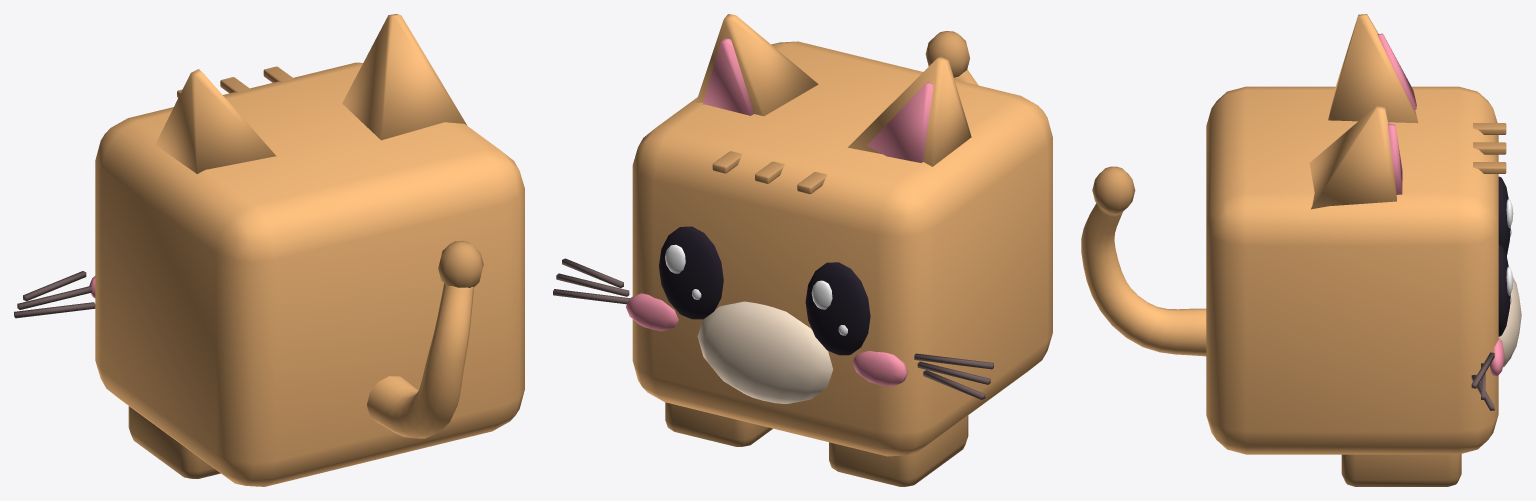
Rendered from pet_cat.fbx.
3 renders of one model, left to right at view 1: azimuth 30°, elevation 25°; view 2: azimuth 150°, elevation 25°; view 3: azimuth 270°, elevation 25°, orthographic. The views are drawn at different scales.
Visible parts, largest first — view 1: pet_cat; view 2: pet_cat; view 3: pet_cat.
Part boxes in pixels (<box>): pet_cat: <box>14,14,524,486</box>; pet_cat: <box>553,14,1052,486</box>; pet_cat: <box>1081,14,1521,486</box>.
Bounding box in the file's own units: 3.06 × 2.67 × 2.86.
1 material, 1 textured.
